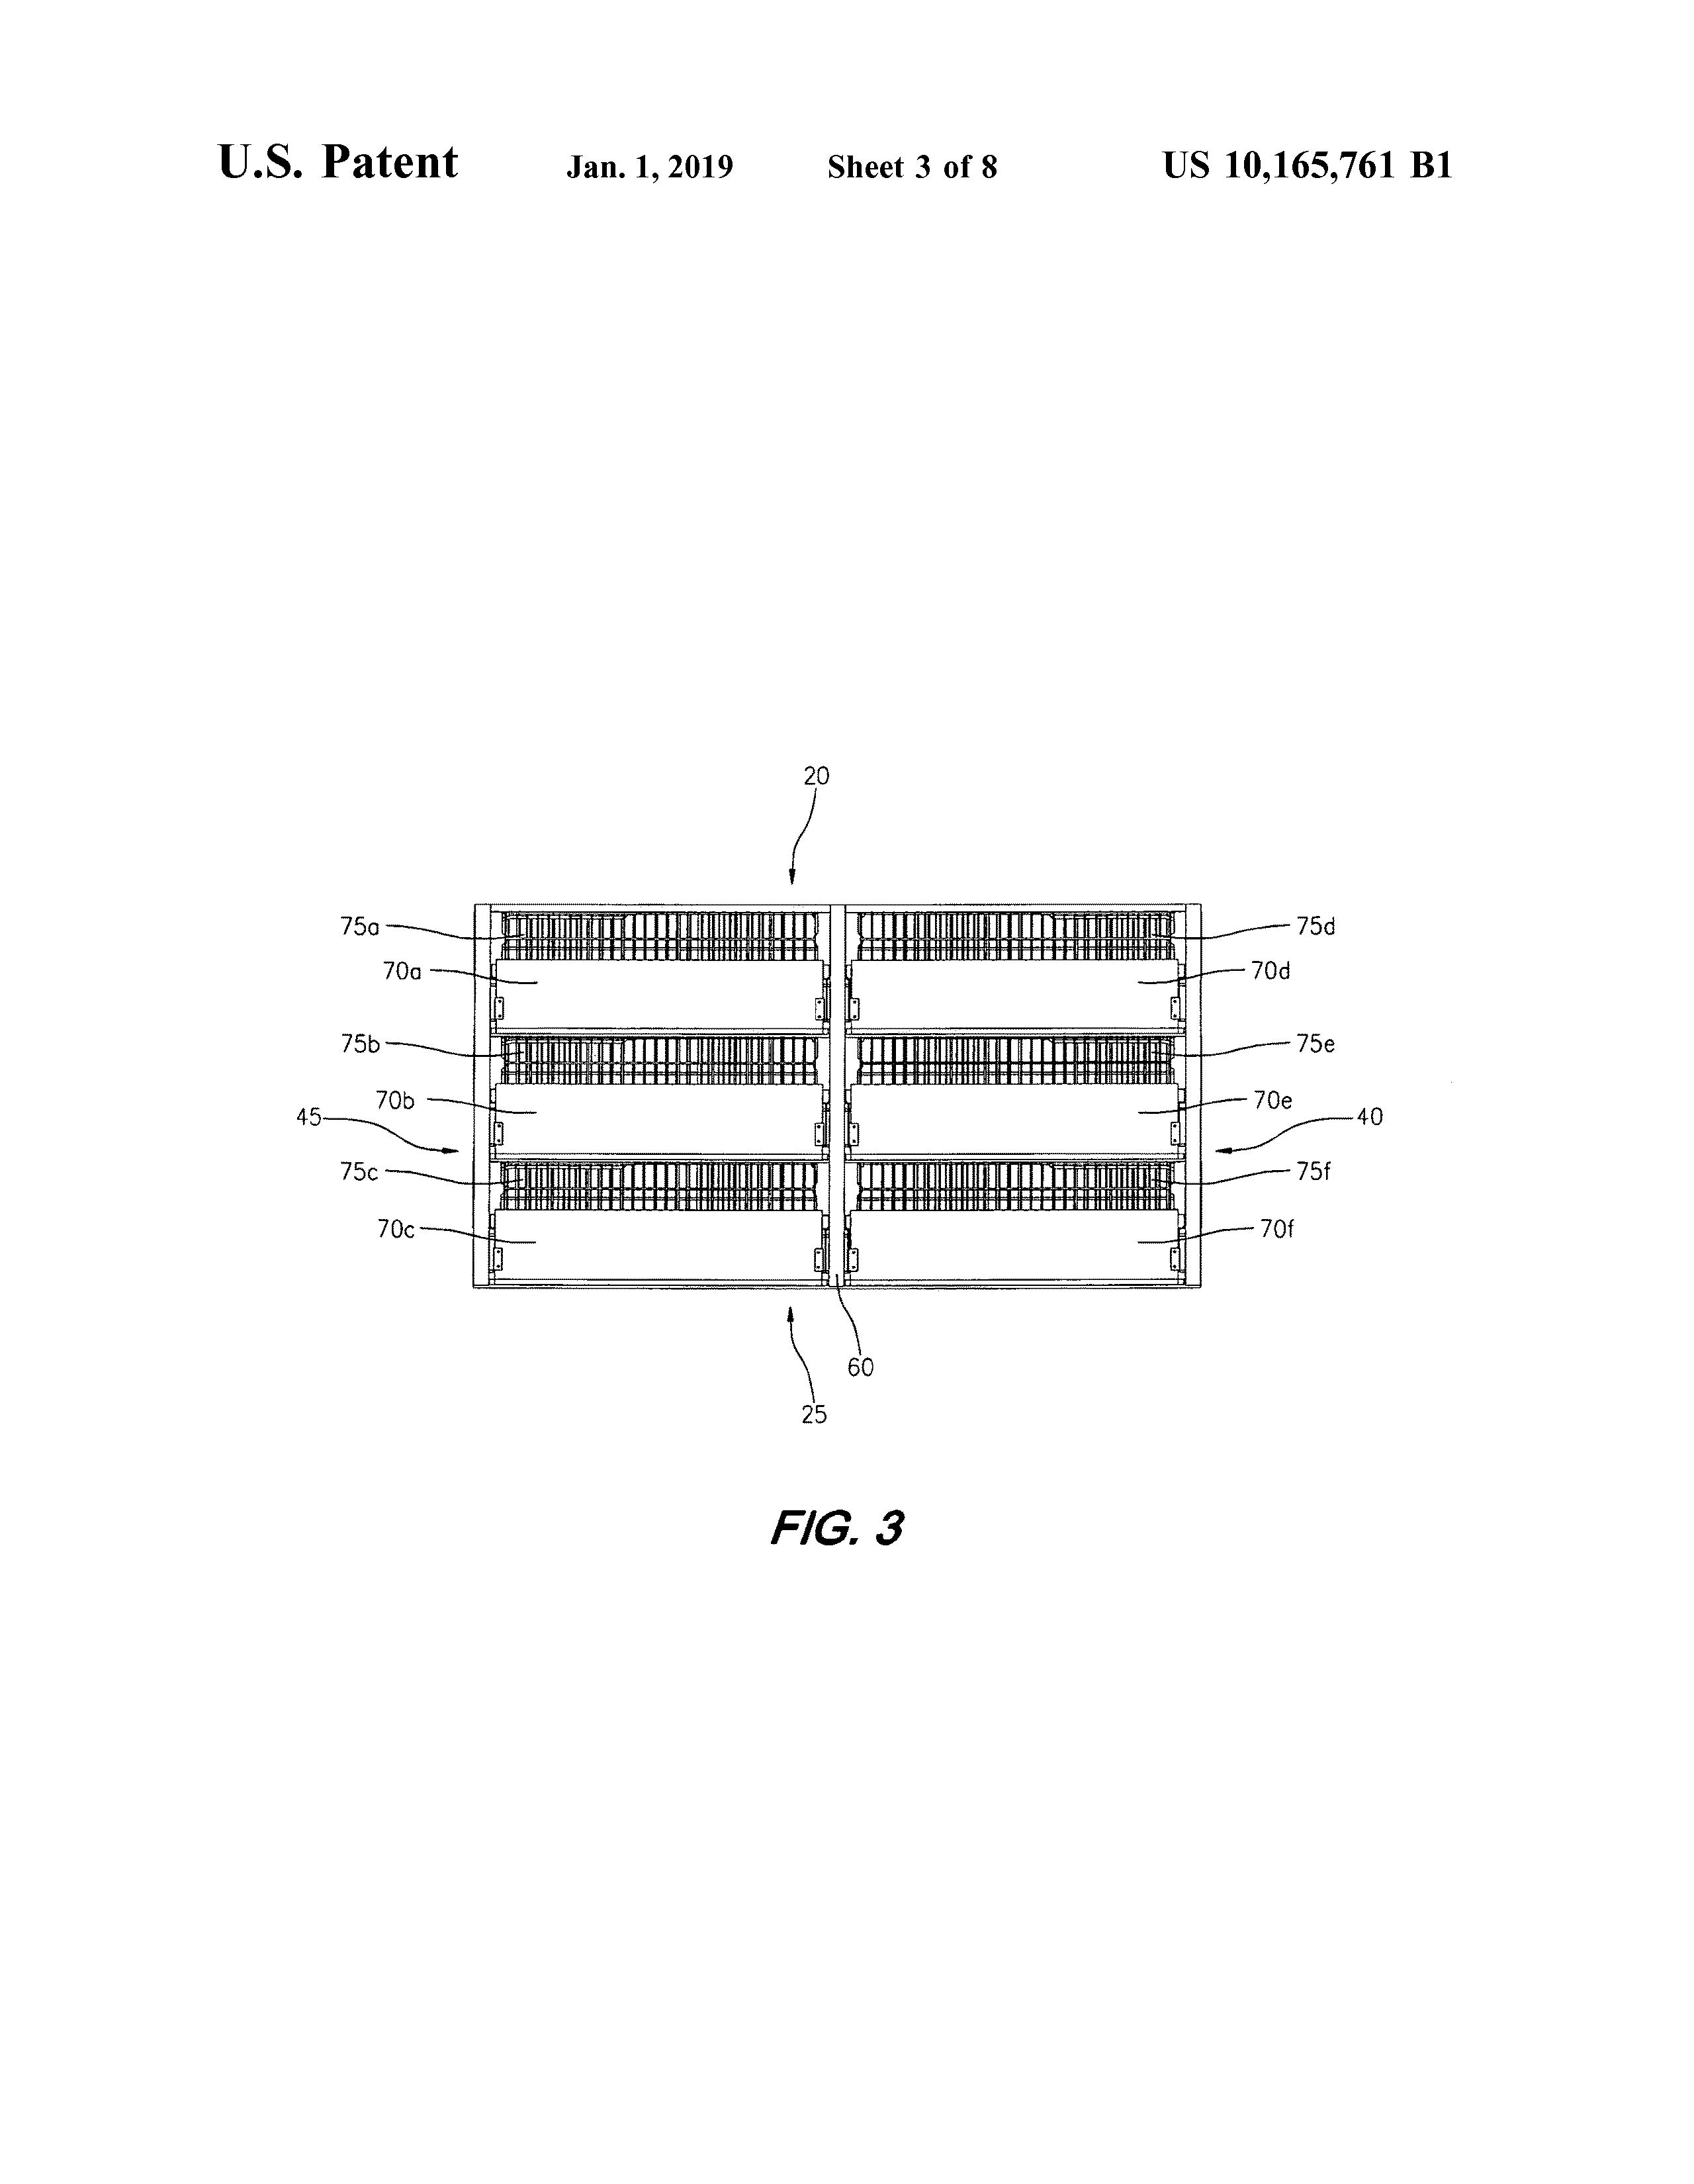patent image: (261, 728, 1433, 1572)
